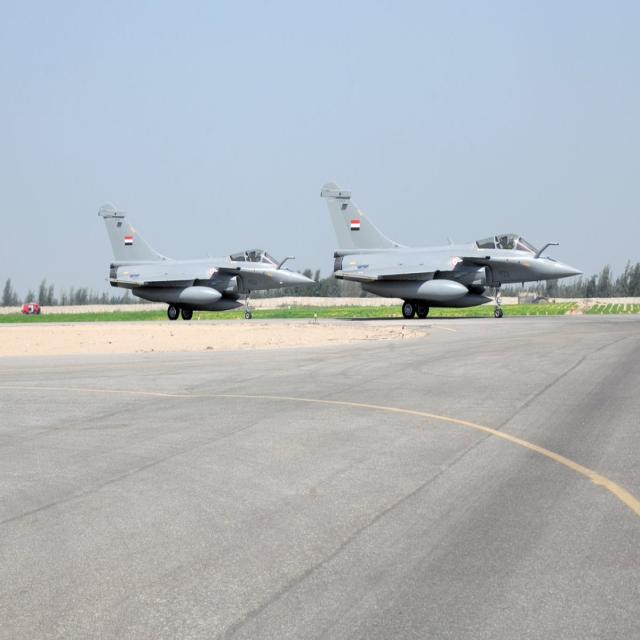MIL_Plane: (320, 180, 585, 319), (98, 201, 316, 319)
